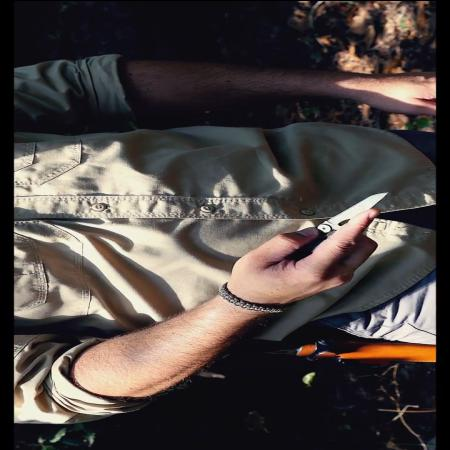long weapon: (257, 187, 395, 292)
